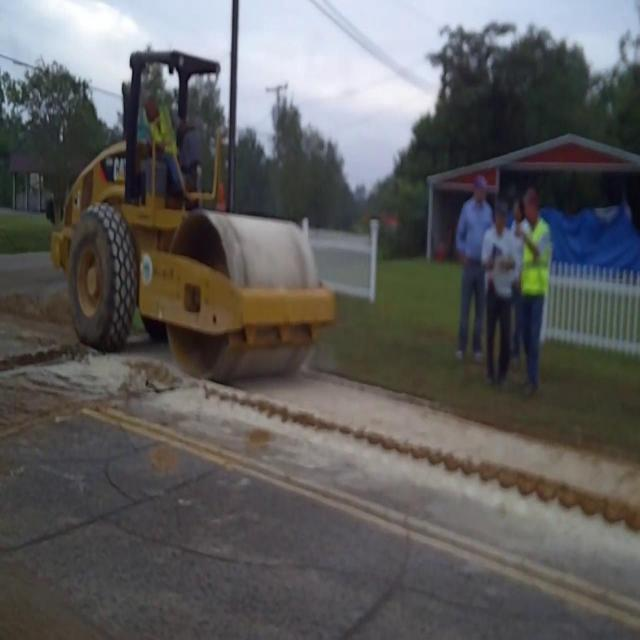Roller: (49, 47, 336, 385)
